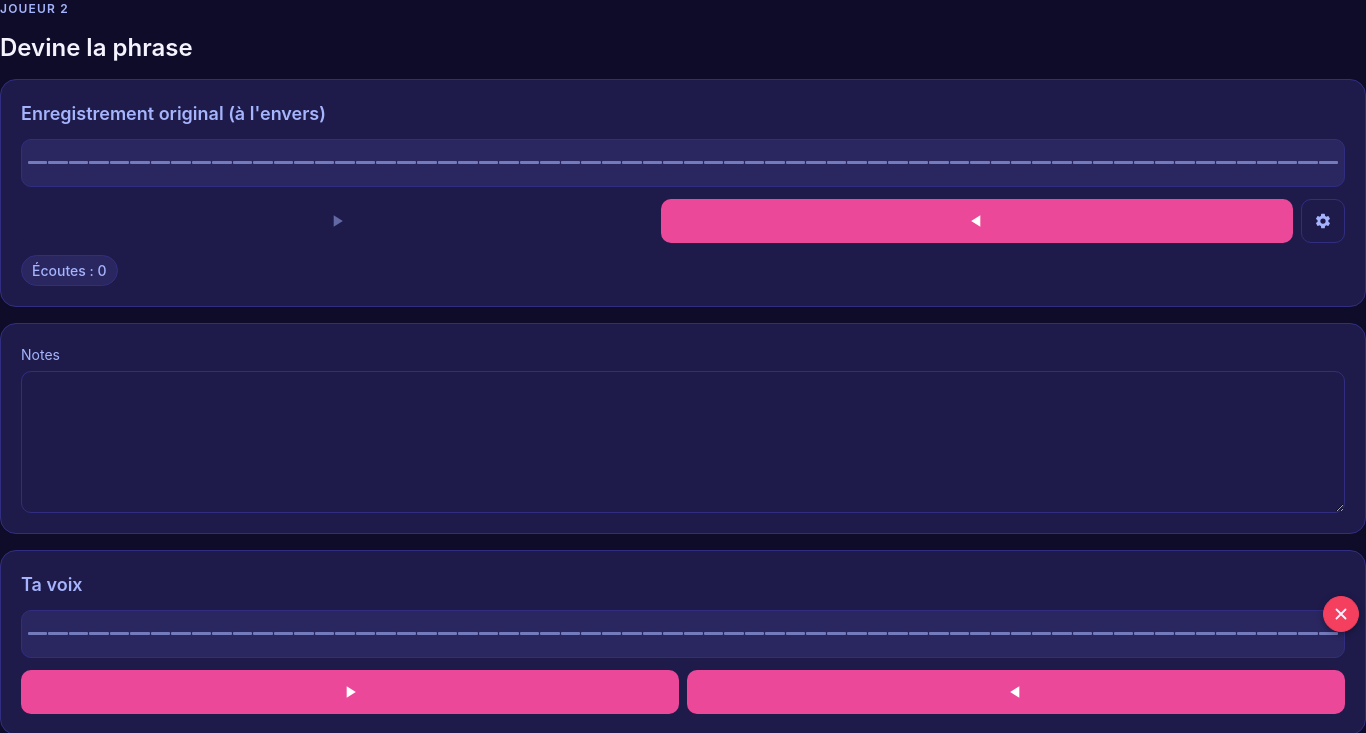
it: <GuessingPhase /> › the 'Ta voix' replay player does not expose the gear (and slider) while the original does
Expected: the slider labelled "vitesse" is not shown
Click the button named "réglages vitesse": {"x": 1323, "y": 221} [1301,199,1345,243]
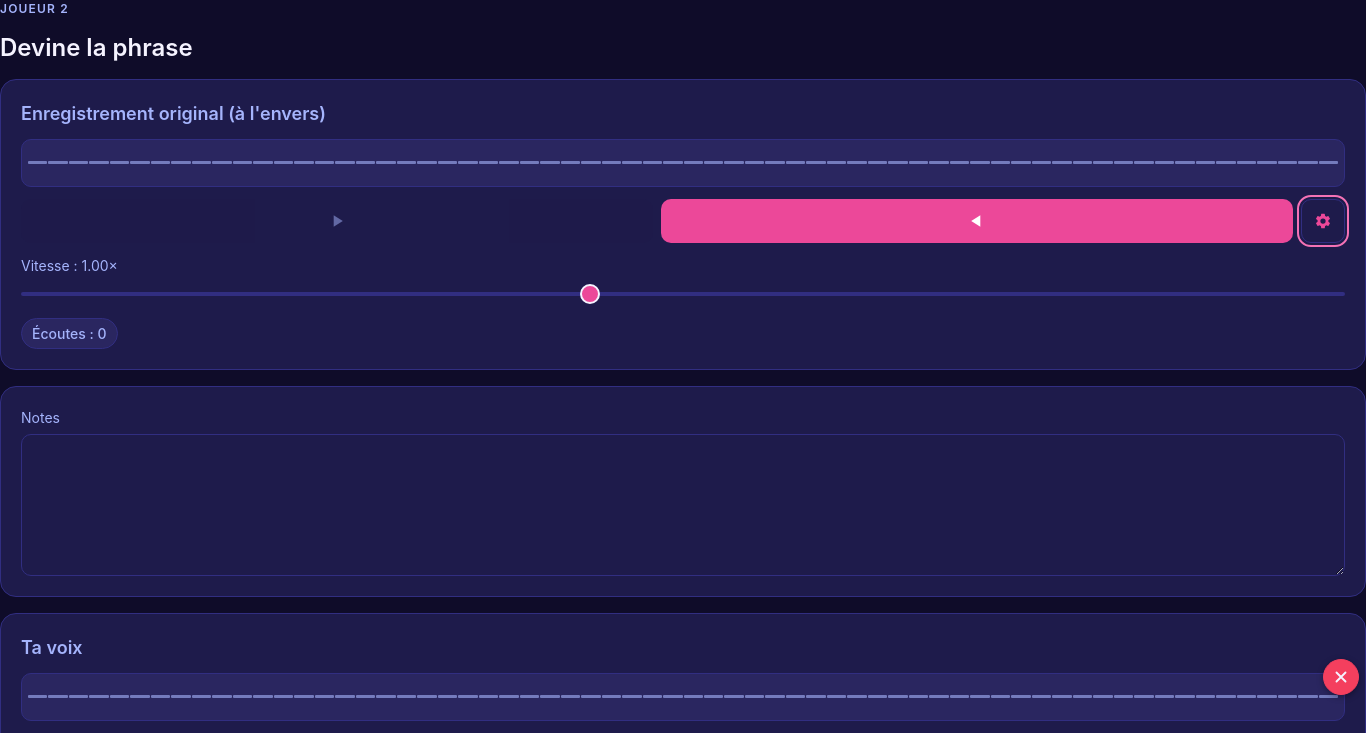
Now the number of sliders labelled "Vitesse : 1.00×" is 1, box [21,282,1345,306]
